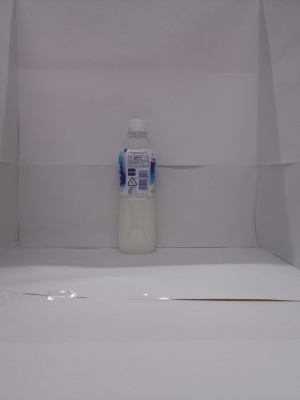カルピス: (109, 114, 168, 261)
